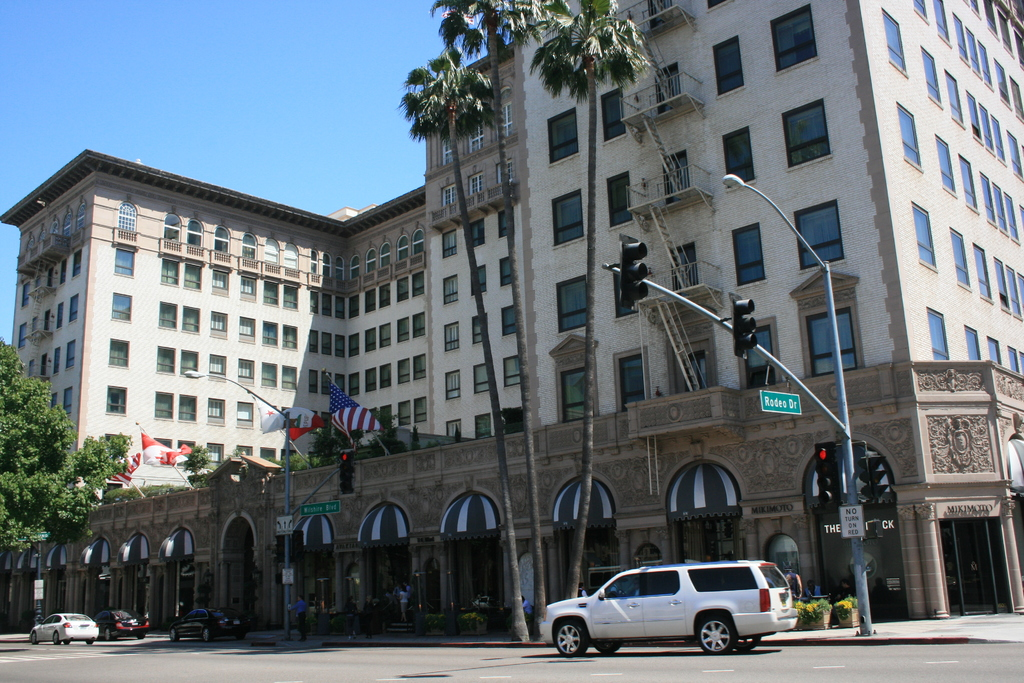Car: (535, 565, 796, 662), (25, 614, 101, 654), (172, 602, 238, 643), (94, 608, 151, 647)
